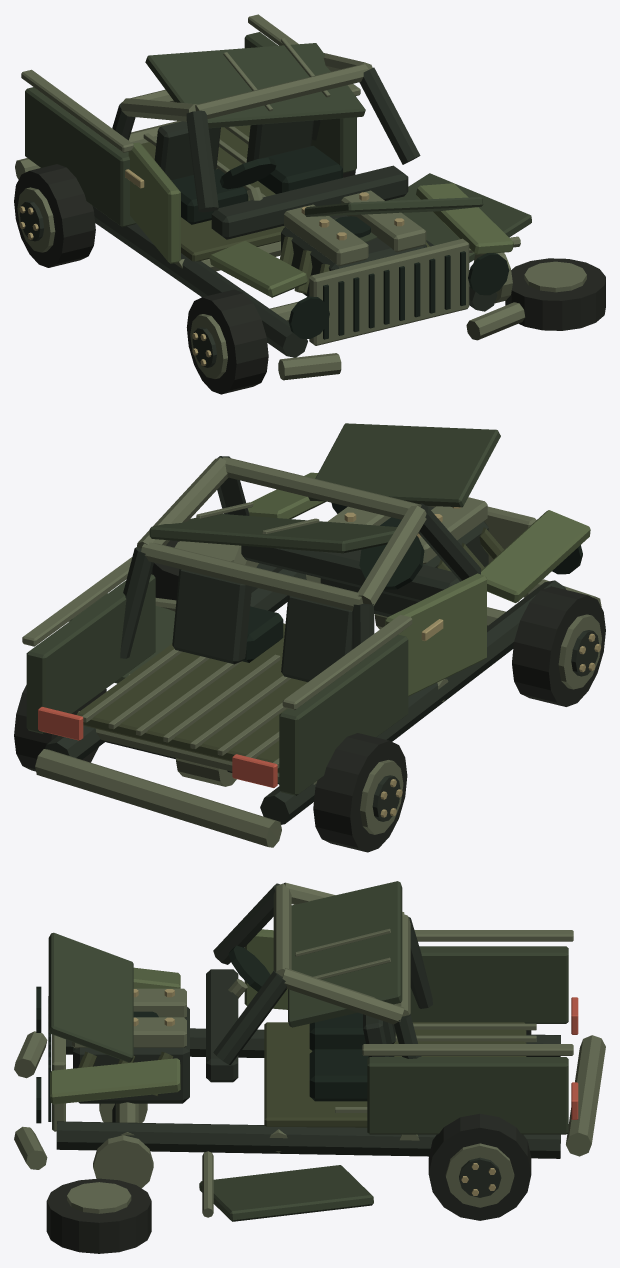
The model's file is wreck.obj.
The picture shows the model from 3 angles, top to bottom: view 1: azimuth 30°, elevation 25°; view 2: azimuth 150°, elevation 25°; view 3: azimuth 270°, elevation 25°; orthographic projection. The views are drawn at different scales.
Visible parts, largest first — view 1: wreck; view 2: wreck; view 3: wreck.
Part boxes in pixels (left/top/right/bottom): wreck: left=14, top=14, right=605, bottom=394; wreck: left=14, top=423, right=605, bottom=852; wreck: left=14, top=881, right=605, bottom=1253.
Size of the model in its own units: 2.29 by 1.25 by 2.94.
1 material, 1 textured.
